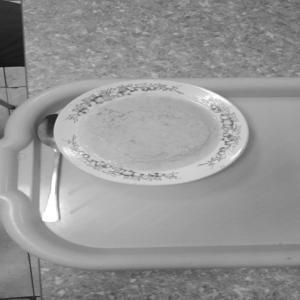porridge: (69, 90, 233, 173)
